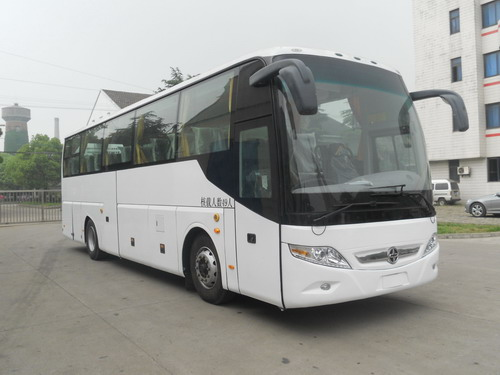bigcar: (48, 43, 473, 314)
